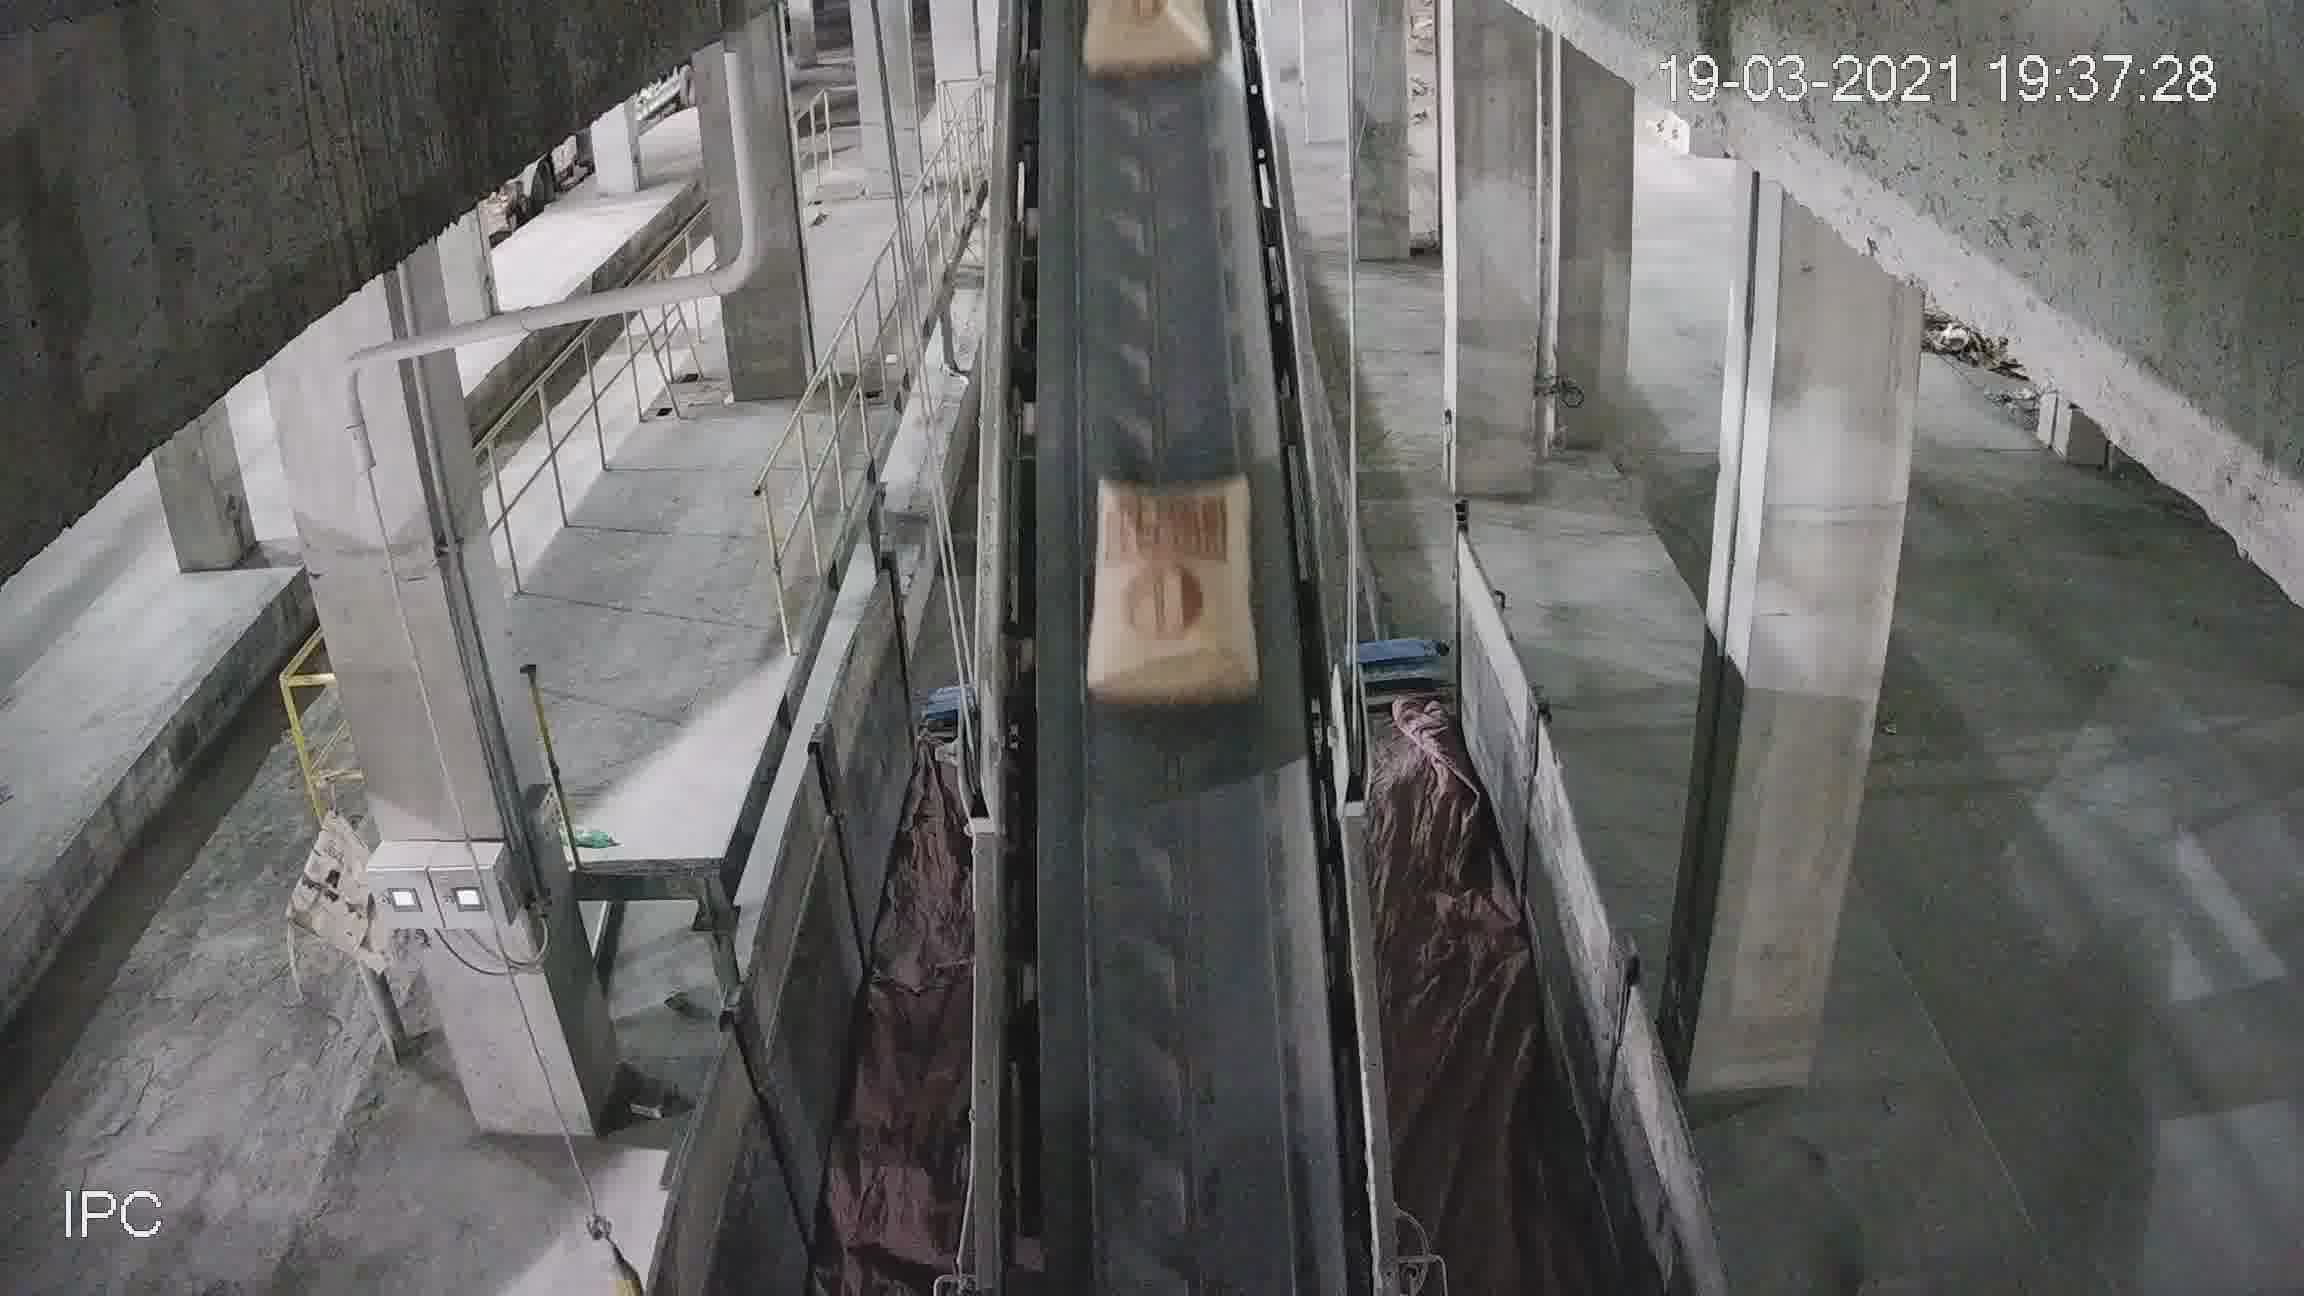bag: (1092, 476, 1255, 712), (1079, 13, 1209, 73)
belt: (983, 16, 1381, 1105)
